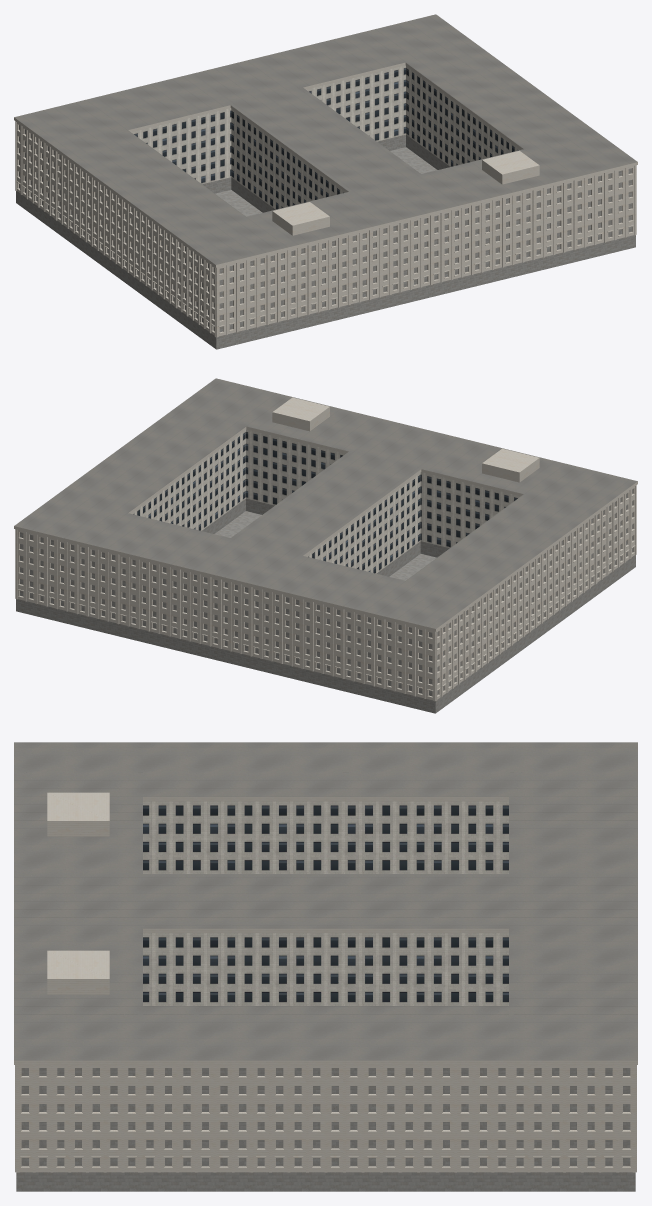
File: loc_madison.glb
3 views of the same model, one above another, from view 1: azimuth 30°, elevation 25°; view 2: azimuth 150°, elevation 25°; view 3: azimuth 270°, elevation 25° (orthographic). The views are drawn at different scales.
Parts seen in each view (by area): view 1: loc_madison; view 2: loc_madison; view 3: loc_madison.
Boxes of the visible parts, x1,y1,x2,y2 form: loc_madison: (14, 14, 637, 349); loc_madison: (14, 378, 637, 713); loc_madison: (14, 742, 637, 1191).
Bounding box in the file's own units: 158 × 34.09 × 131.
Materials: 4 (4 with a texture image).
